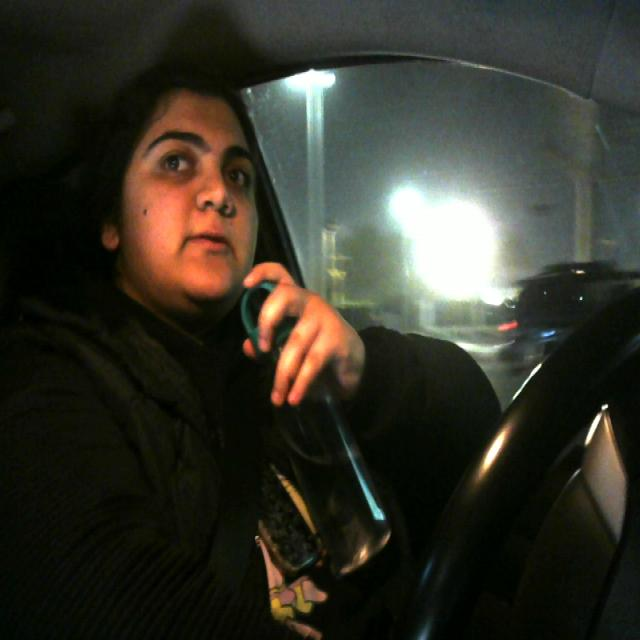drinking: (235, 269, 409, 583)
